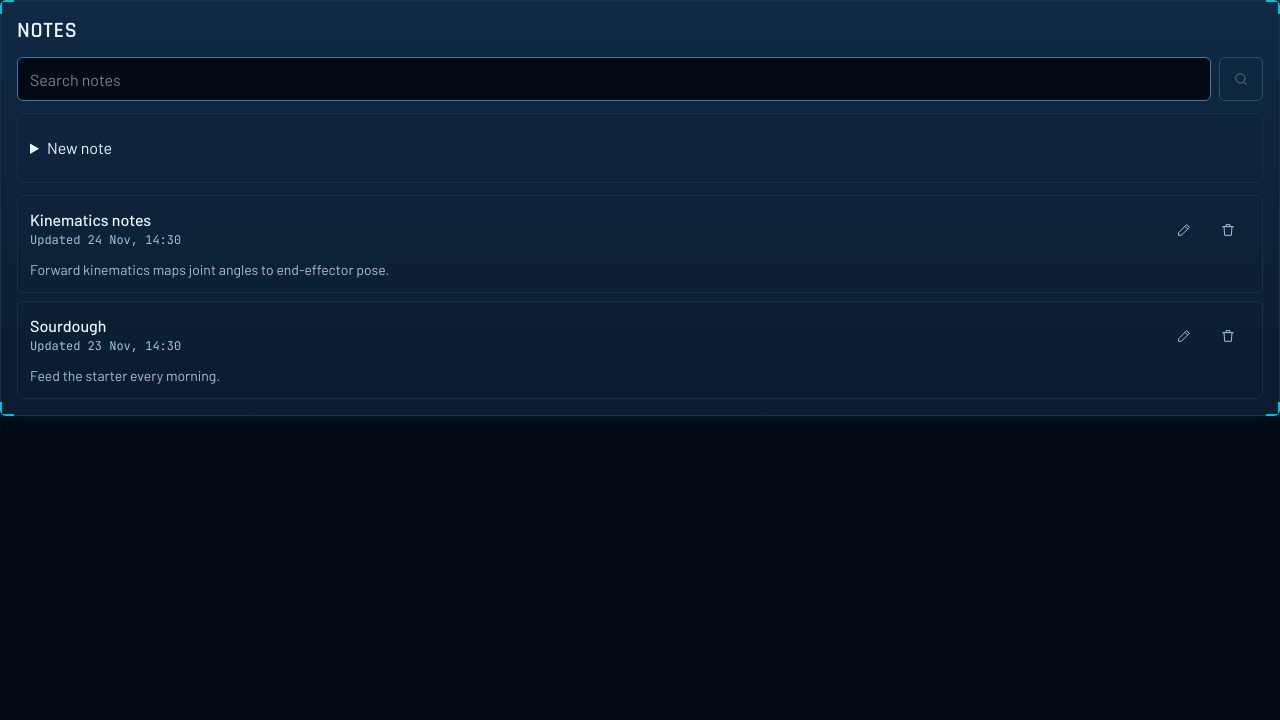
Test case: note board (M2-8b) › search with no matches shows the no-match state
Type "sourdough starter recipe" into the search field labelled "Search notes".
click(614, 79); type("sourdough starter recipe")  # box [17, 57, 1211, 101]
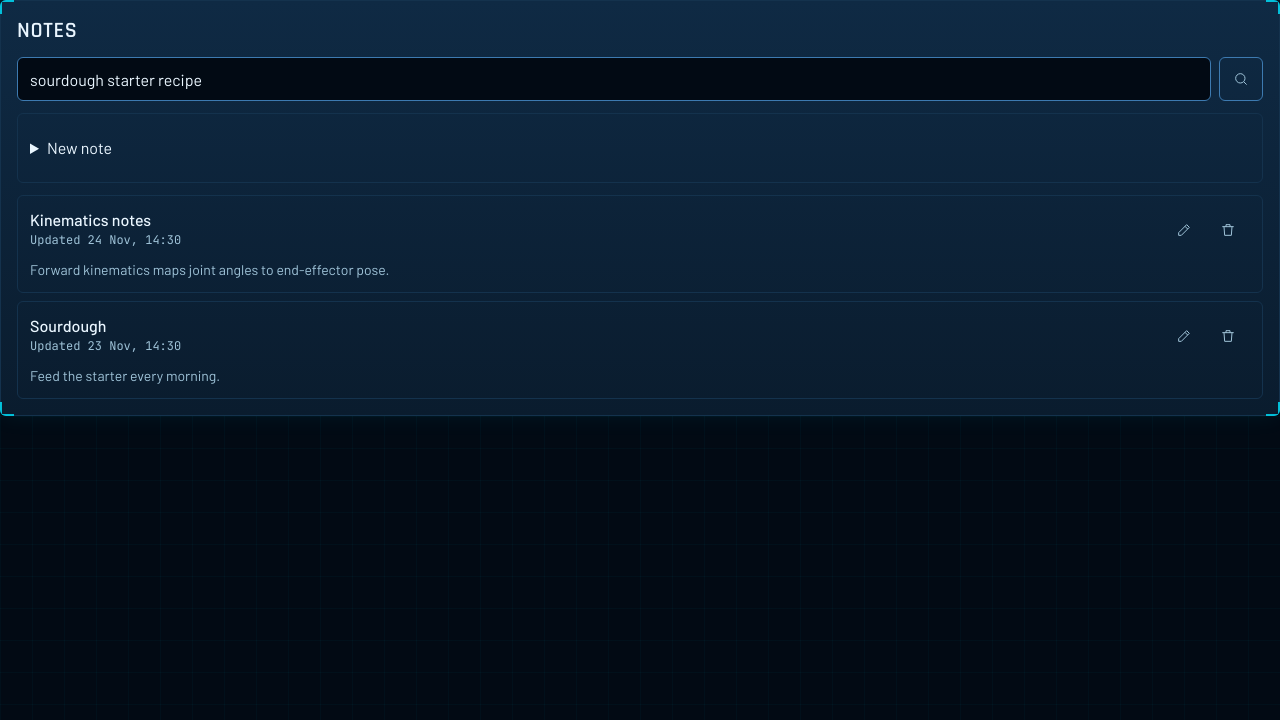
Click the button named "Search".
click(1241, 79)  # box [1219, 57, 1263, 101]
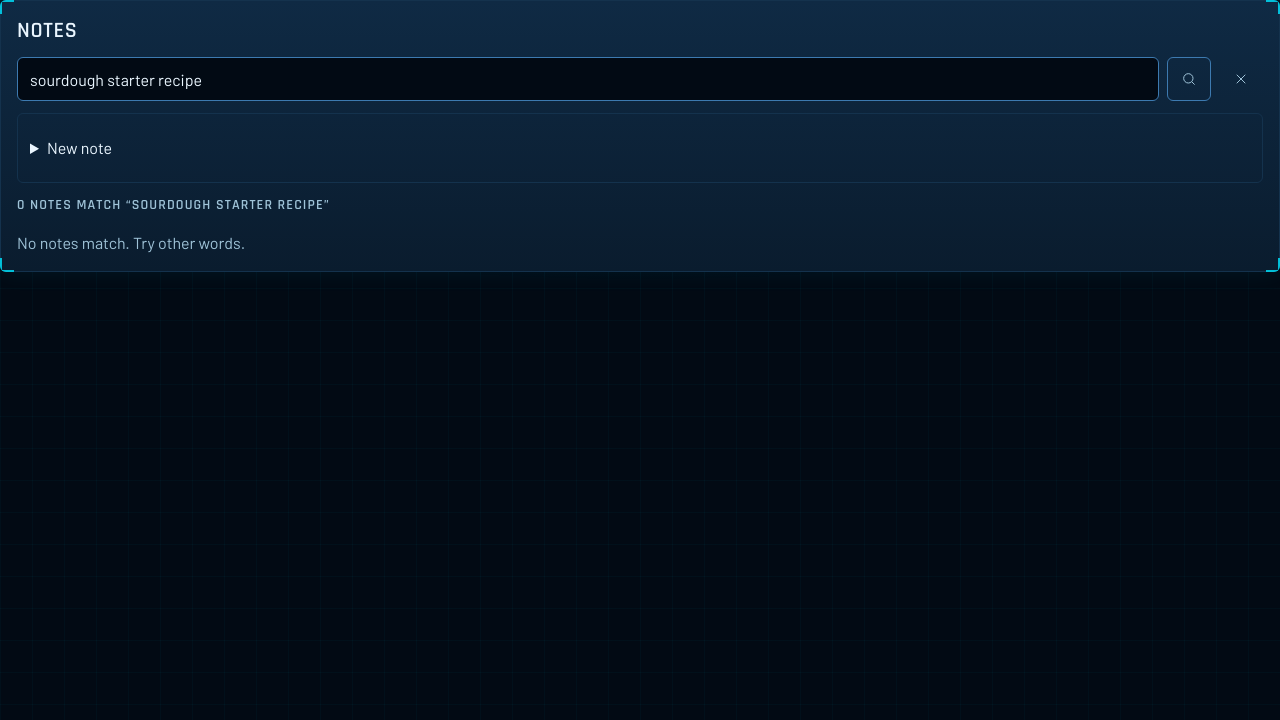
expect the text "0 notes match “sourdough starter recipe”" is shown: met, box [17, 196, 330, 214]
expect the text "No notes match. Try other words." is shown: met, box [17, 233, 245, 252]
